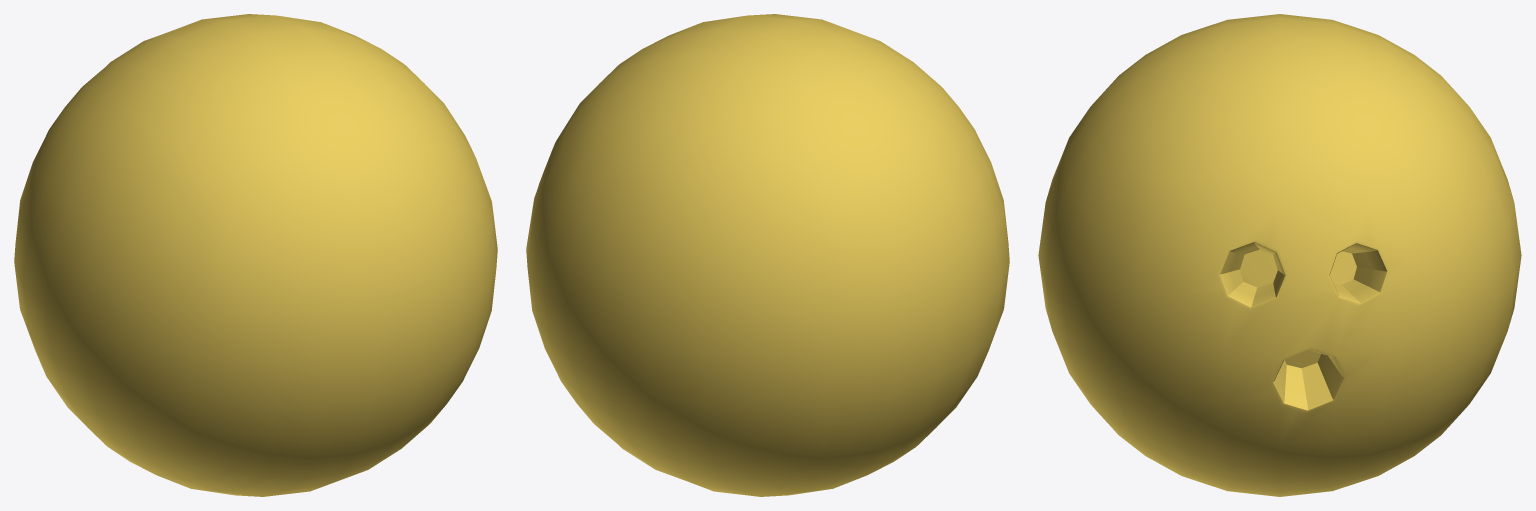
File: Gold ball.fbx
3 renders of one model, left to right at view 1: azimuth 30°, elevation 25°; view 2: azimuth 150°, elevation 25°; view 3: azimuth 270°, elevation 25°, orthographic.
Parts seen in each view (by area): view 1: Golden Ball; view 2: Golden Ball; view 3: Golden Ball.
Part boxes in pixels (bbox=[...]): Golden Ball: bbox=[14, 14, 497, 496]; Golden Ball: bbox=[526, 14, 1009, 496]; Golden Ball: bbox=[1038, 14, 1521, 496].
Bounding box in the file's own units: 64.27 × 64.5 × 64.5.
